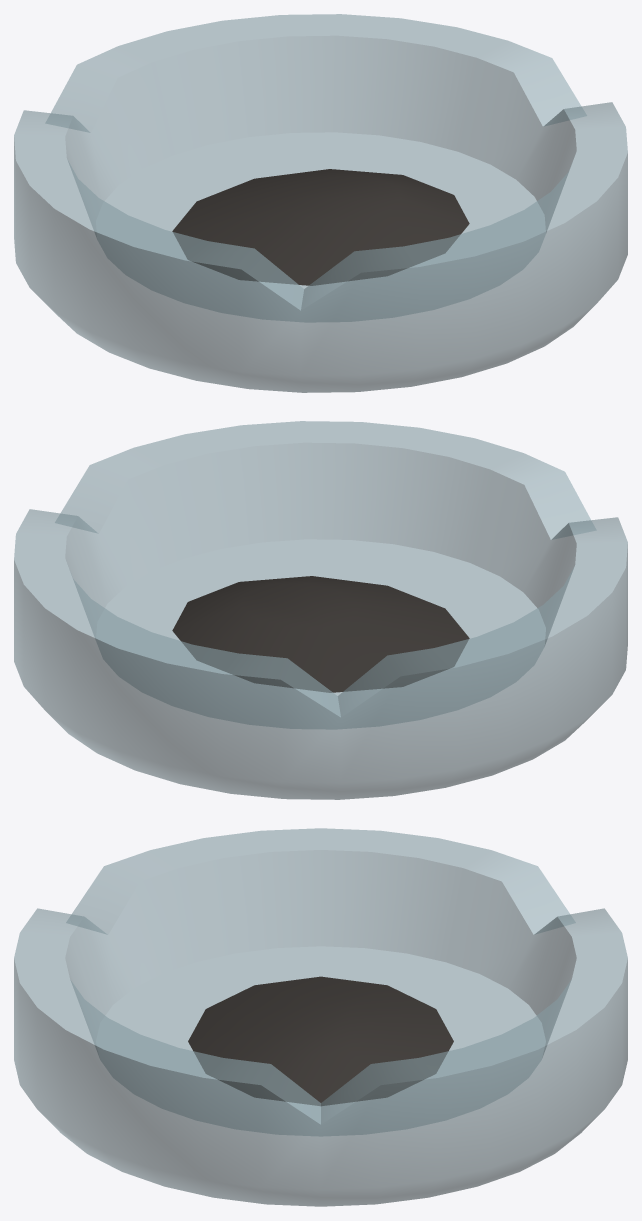
The model's file is ashtray.glb.
3 renders of one model, top to bottom at view 1: azimuth 30°, elevation 25°; view 2: azimuth 150°, elevation 25°; view 3: azimuth 270°, elevation 25°, orthographic.
Parts seen in each view (by area): view 1: ashtray; view 2: ashtray; view 3: ashtray.
Part boxes in pixels (x1,y1,x2,y2): ashtray: (14,14,627,392); ashtray: (14,421,627,799); ashtray: (14,828,627,1206).
Bounding box in the file's own units: 0.12 × 0.028 × 0.12.
